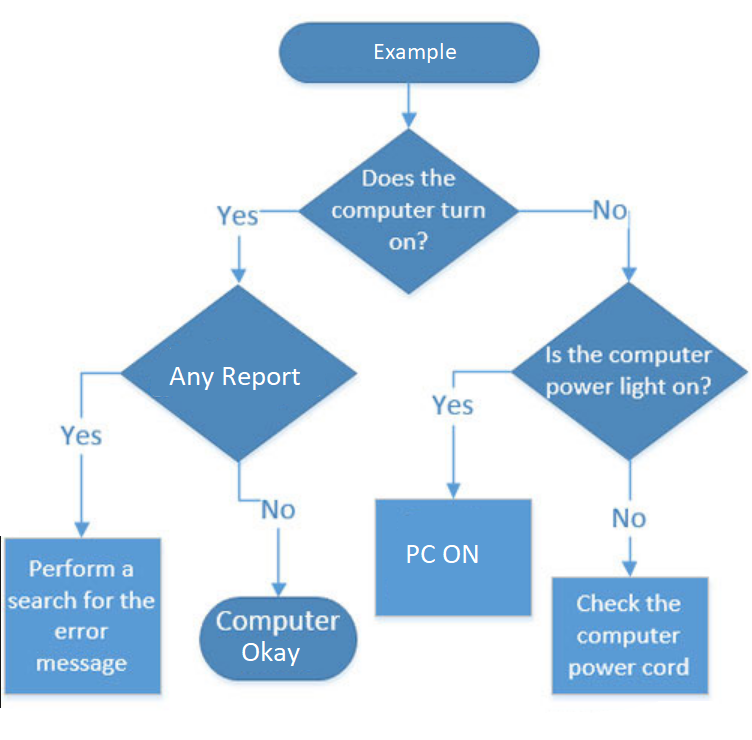arrow: (513, 207, 641, 288), (234, 458, 304, 598), (443, 368, 514, 499), (71, 370, 123, 538), (228, 208, 303, 287), (622, 456, 639, 579), (398, 81, 420, 133)
decision: (510, 282, 752, 463), (118, 282, 359, 463), (297, 127, 520, 296)
process: (1, 536, 164, 695), (372, 496, 534, 618), (548, 574, 711, 695)
terminator: (277, 18, 544, 86), (198, 595, 361, 685)
text: (7, 555, 156, 677), (330, 167, 489, 254), (564, 590, 693, 680), (543, 342, 713, 402), (213, 608, 343, 668), (165, 364, 303, 394), (403, 541, 481, 568), (372, 40, 458, 64), (213, 202, 263, 231), (429, 392, 477, 420), (59, 424, 104, 451), (589, 198, 632, 224), (610, 506, 649, 532), (258, 497, 298, 522)
